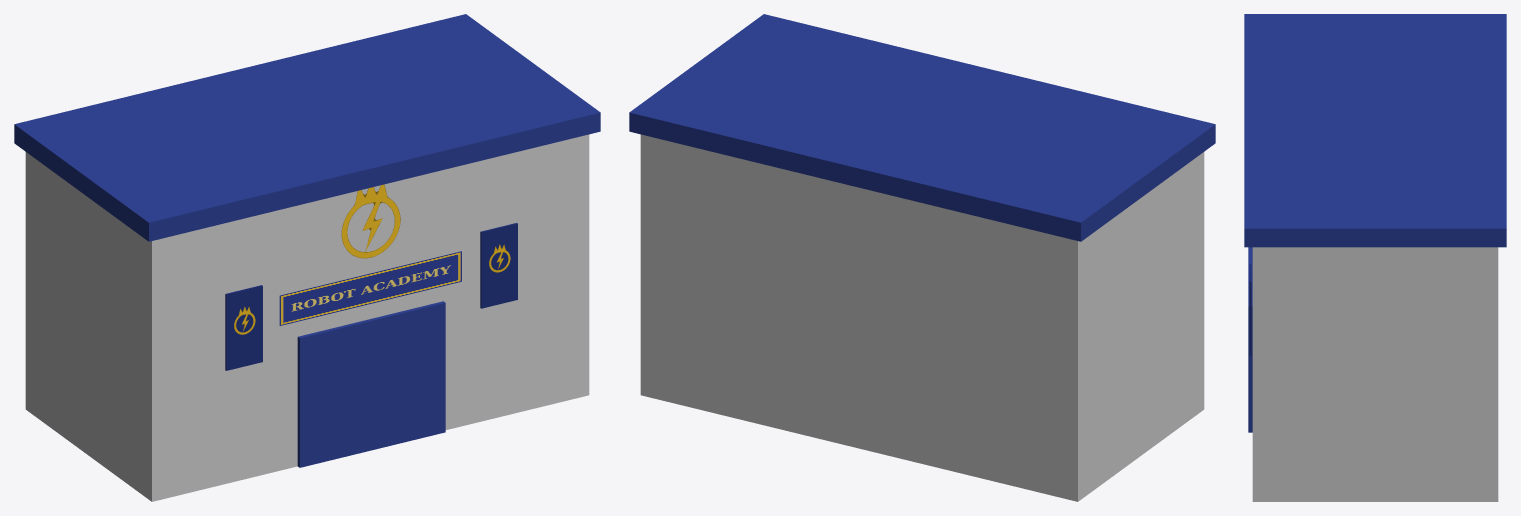
Rendered from robot_academy.glb.
3 views of the same model, side by side, from view 1: azimuth 30°, elevation 25°; view 2: azimuth 150°, elevation 25°; view 3: azimuth 270°, elevation 25° (orthographic). The views are drawn at different scales.
Parts seen in each view (by area): view 1: robot_academy; view 2: robot_academy; view 3: robot_academy.
Boxes of the visible parts, x1,y1,x2,y2 form: robot_academy: [14, 14, 600, 501]; robot_academy: [629, 14, 1215, 501]; robot_academy: [1244, 14, 1506, 501].
Bounding box in the file's own units: 12.4 × 7.45 × 6.4.
7 materials, 3 textured.
